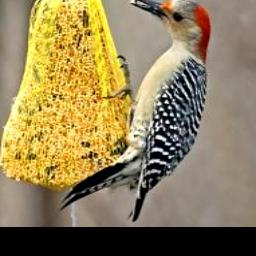Woodpecker: (52, 0, 232, 219)
